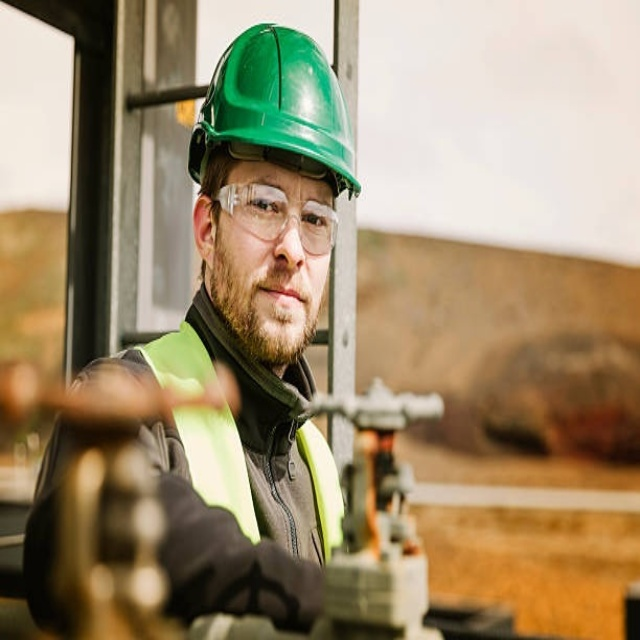Gafas: (212, 184, 338, 259)
Sin_mascara: (246, 267, 314, 342)
